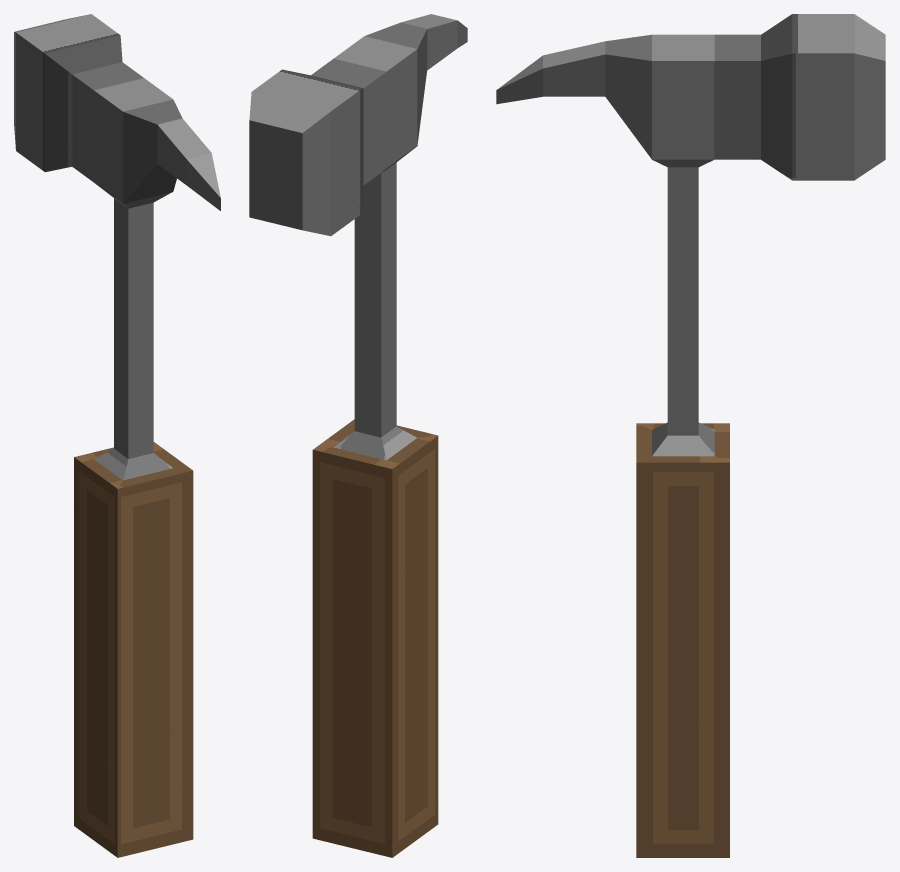
The model's file is Hammer.obj.
The picture shows the model from 3 angles, left to right: view 1: azimuth 30°, elevation 25°; view 2: azimuth 150°, elevation 25°; view 3: azimuth 270°, elevation 25°; orthographic projection. The views are drawn at different scales.
Visible parts, largest first — view 1: Hammer; view 2: Hammer; view 3: Hammer.
Boxes of the visible parts, x1,y1,x2,y2 form: Hammer: (14,14,220,857); Hammer: (249,14,467,857); Hammer: (496,14,885,857).
Size of the model in its own units: 0.378 by 3.59 by 1.57.
